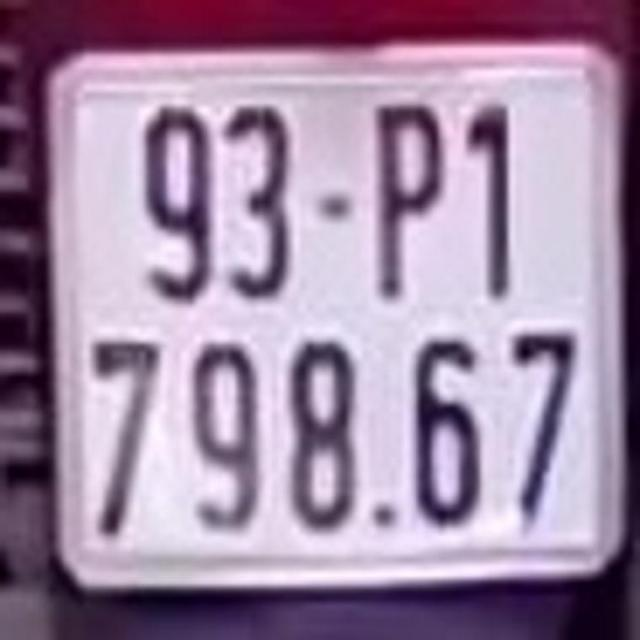1: (465, 97, 519, 297)
3: (220, 96, 296, 299)
6: (410, 332, 488, 526)
7: (81, 331, 162, 544), (504, 320, 580, 518)
8: (284, 333, 360, 524)
9: (183, 338, 266, 536), (138, 102, 217, 300)
P: (370, 95, 450, 305)
